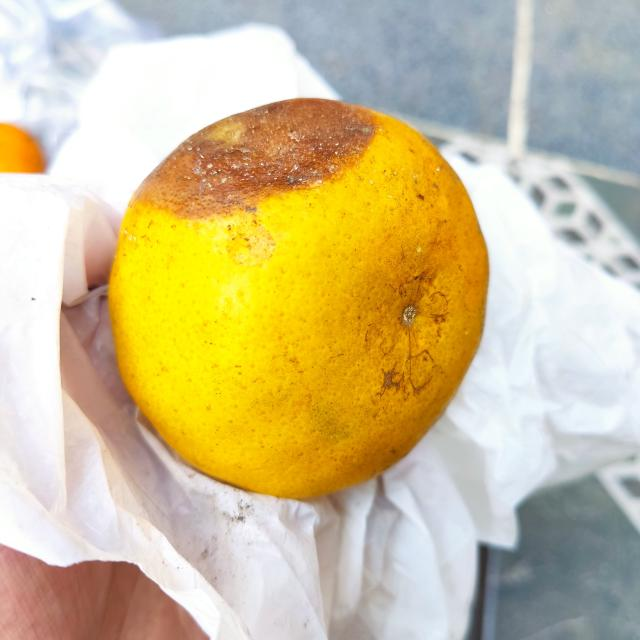orange: (105, 97, 489, 500)
